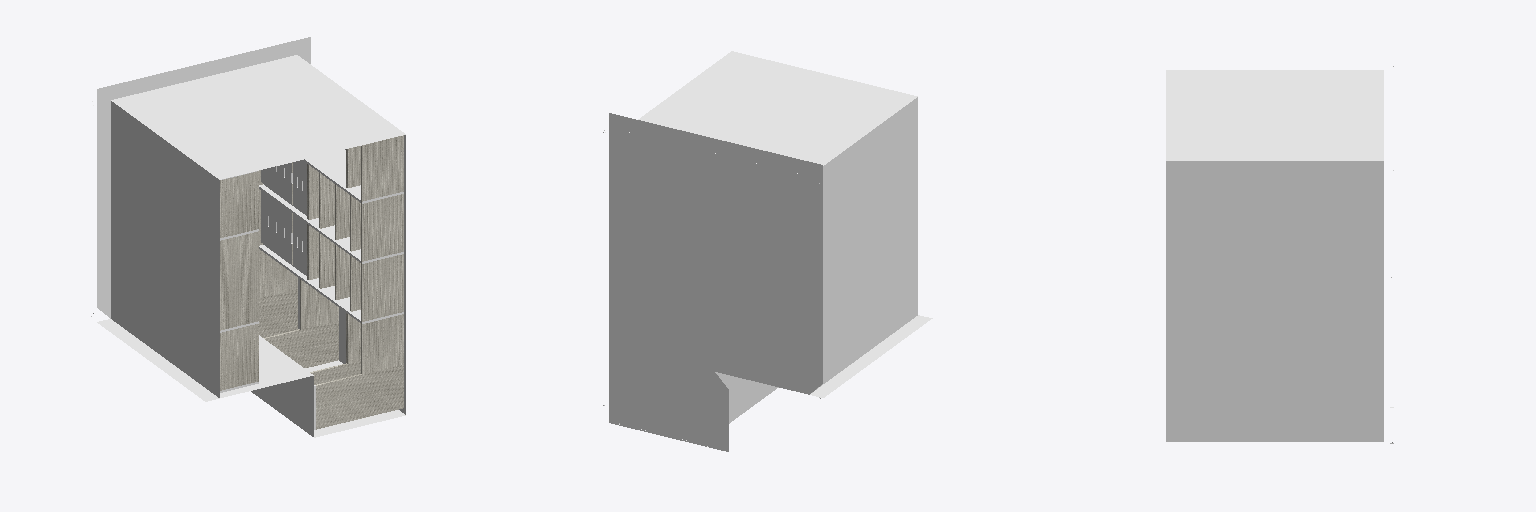
3 renders of one model, left to right at view 1: azimuth 30°, elevation 25°; view 2: azimuth 150°, elevation 25°; view 3: azimuth 270°, elevation 25°, orthographic.
Visible parts, largest first — view 1: Object_360, Object_361, Object_314, Object_23, Object_373, Object_367, Object_78, Object_195, Object_61, Object_4, Object_40, Object_339 (+23 smaller); view 2: Object_359, Object_360, Object_361, Object_369, Object_373, Object_367, Object_371, Object_366, Object_364, Object_375; view 3: Object_362, Object_361.
Part boxes in pixels (bbox=[...]): Object_360: bbox=[111, 101, 219, 397]; Object_361: bbox=[111, 55, 405, 179]; Object_314: bbox=[316, 365, 403, 429]; Object_23: bbox=[220, 231, 258, 330]; Object_373: bbox=[97, 90, 110, 318]; Object_367: bbox=[97, 37, 310, 99]; Object_78: bbox=[362, 194, 403, 261]; Object_195: bbox=[362, 254, 403, 321]; Object_61: bbox=[362, 135, 403, 201]; Object_4: bbox=[220, 324, 258, 390]; Object_40: bbox=[220, 171, 258, 237]; Object_339: bbox=[264, 321, 338, 367]; Object_359: bbox=[623, 131, 808, 433]; Object_360: bbox=[812, 97, 917, 392]; Object_361: bbox=[629, 51, 917, 173]; Object_369: bbox=[609, 114, 622, 421]; Object_373: bbox=[809, 166, 822, 394]; Object_367: bbox=[609, 113, 822, 175]; Object_371: bbox=[609, 412, 727, 451]; Object_366: bbox=[810, 315, 932, 397]; Object_364: bbox=[715, 372, 778, 423]; Object_375: bbox=[715, 373, 728, 451]; Object_362: bbox=[1166, 161, 1383, 441]; Object_361: bbox=[1166, 70, 1383, 160].
Size of the model in its own units: 3110 by 4225 by 2817.
11 materials, 1 textured.